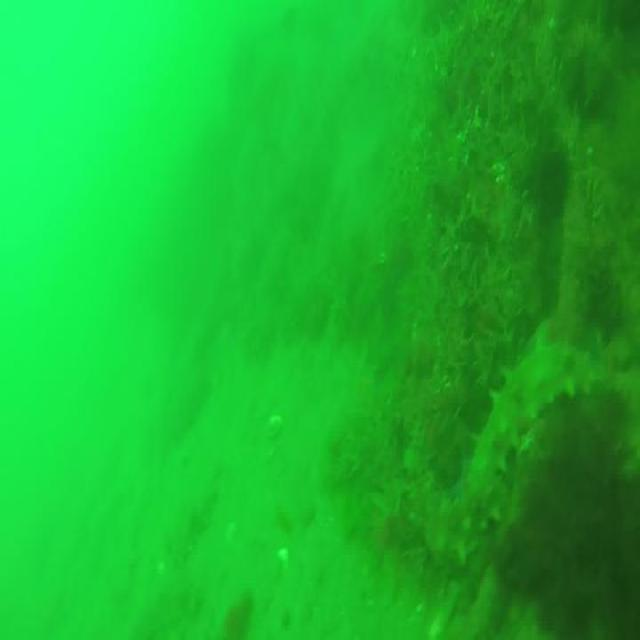holothurian: (411, 336, 638, 560)
scallop: (276, 544, 294, 575), (268, 414, 284, 439)
